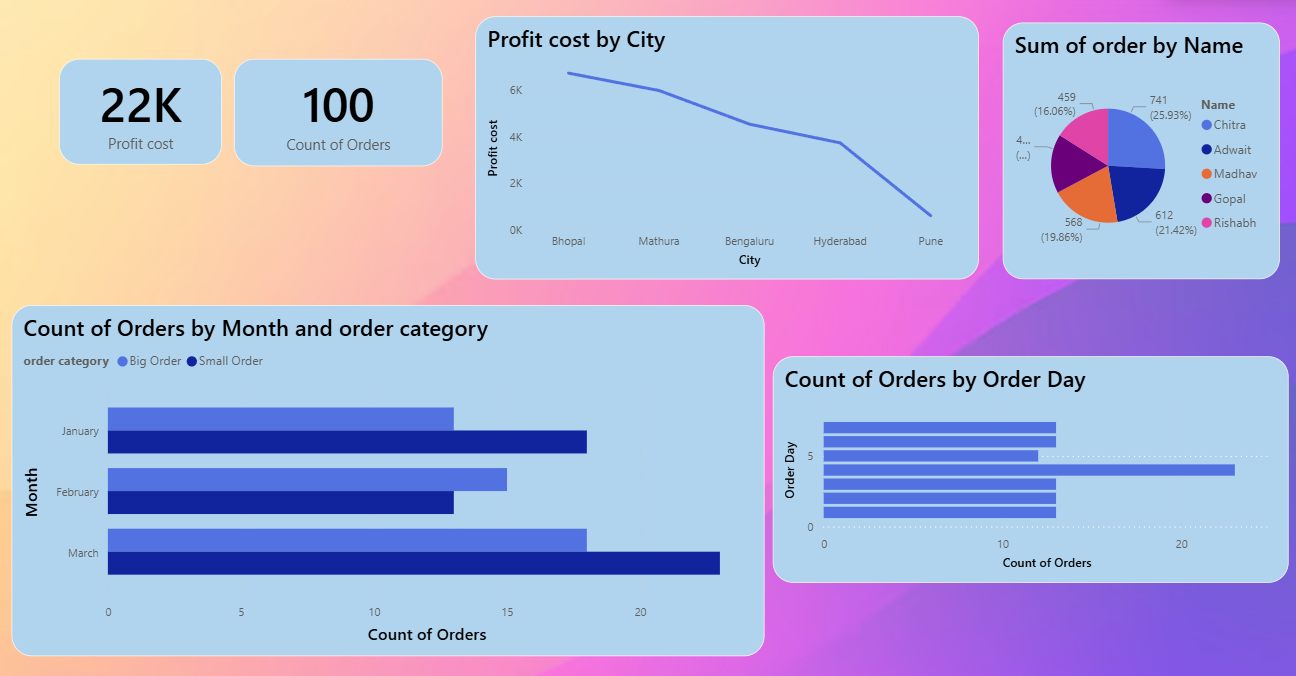

The page's visual inventory and layout, read from the dashboard file:
{"tool":"powerbi","page":{"name":"Page 1","canvas":[1280,720],"ordinal":0},"visuals":[{"type":"card","fields":{"Values":["Orders.Count of Orders"]},"box":[235.9,67.7,205.1,105.6],"z":0},{"type":"pieChart","fields":{"Category":["Customers.Name"],"Y":["Orders.Sum of order"]},"box":[989.7,31.8,271.8,252.3],"z":1000},{"type":"card","fields":{"Values":["Orders.Profit cost"]},"box":[63.5,67.7,160.4,104.1],"z":2000},{"type":"clusteredBarChart","fields":{"Category":["Customers.Order Date.Variation.Date Hierarchy.Month","Customers.Order Date.Variation.Date Hierarchy.Day"],"Y":["Orders.Count of Oders 2"],"Series":["Orders.order category"]},"box":[17.4,308.7,739.5,344.6],"z":3000},{"type":"clusteredBarChart","fields":{"Y":["Orders.Count of Oders 2"],"Category":["Customers.Order Day"]},"box":[764.1,360,506.7,222.6],"z":4000},{"type":"lineChart","fields":{"Category":["Customers.City"],"Y":["Orders.Profit cost"]},"box":[471.8,26,494.7,258.3],"z":5000}]}

Visuals, with their boxes on the page's 1280x720 design canvas (x1, y1, x2, y2). These are canvas units, not pixel positions in the 1296x676 screenshot, which may show the page scaled, cropped or inside an application window:
card - Orders.Count of Orders: (236,68,441,173)
pieChart - Customers.Name x Orders.Sum of order: (990,32,1262,284)
card - Orders.Profit cost: (64,68,224,172)
clusteredBarChart - Customers.Order Date.Variation.Date Hierarchy.Month x Customers.Order Date.Variation.Date Hierarchy.Day: (17,309,757,653)
clusteredBarChart - Orders.Count of Oders 2 x Customers.Order Day: (764,360,1271,583)
lineChart - Customers.City x Orders.Profit cost: (472,26,966,284)
